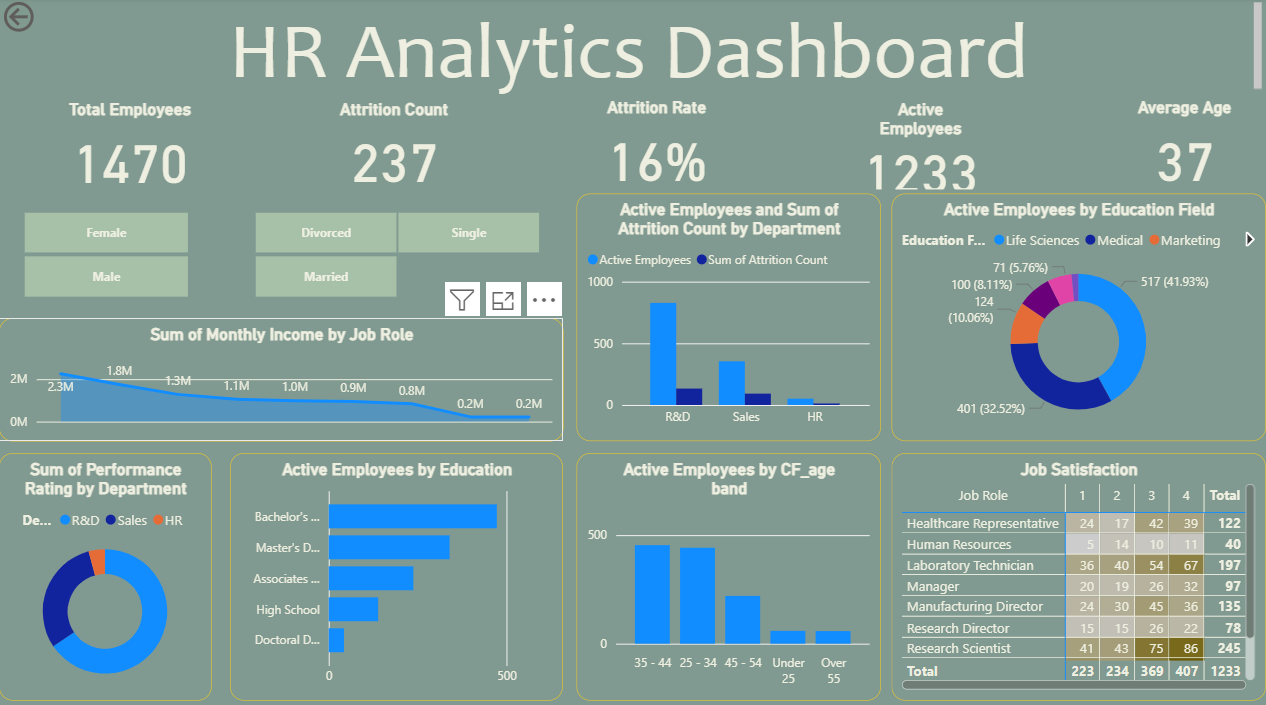

Layout of this report page (visuals, bound fields, positions):
{"tool":"powerbi","page":{"name":"Page 1","canvas":[1280,720],"ordinal":0},"visuals":[{"type":"card","title":"Total Employees","fields":{"Values":["Sum(HR data.Employee Count)"]},"box":[49.6,102.5,164.9,96.1],"z":0},{"type":"card","title":"Attrition Count","fields":{"Values":["Sum(HR data.Attrition Count)"]},"box":[315.9,102.5,164.9,94.5],"z":1000},{"type":"card","title":"Attrition Rate","fields":{"Values":["HR data.Attrition Rate"]},"box":[582.1,100.9,164.9,96.1],"z":2000},{"type":"card","title":"Active Employees","fields":{"Values":["HR data.Active Employees"]},"box":[848.3,102.5,164.9,96.1],"z":3000},{"type":"card","title":"Average Age","fields":{"Values":["Avg(HR data.Age)"]},"box":[1114.5,100.9,164.9,96.1],"z":4000},{"type":"actionButton","box":[0,0,100,40],"z":5000},{"type":"textbox","box":[0,0,1279.5,102.5],"z":6000},{"type":"clusteredColumnChart","fields":{"Y":["HR data.Active Employees","Sum(HR data.Attrition Count)"],"Category":["HR data.Department"]},"box":[582.9,198.6,307.5,249.8],"z":7000},{"type":"donutChart","fields":{"Y":["HR data.Active Employees"],"Category":["HR data.Education Field"]},"box":[901.6,198.6,377.9,249.8],"z":8000},{"type":"columnChart","fields":{"Y":["HR data.Active Employees"],"Category":["HR data.CF_age band"]},"box":[582.9,459.6,307.5,249.8],"z":9000},{"type":"pivotTable","title":"Job Satisfaction","fields":{"Rows":["HR data.Job Role"],"Columns":["HR data.Job Satisfaction"],"Values":["HR data.Active Employees"]},"box":[901.6,459.6,377.9,249.8],"z":10000},{"type":"donutChart","fields":{"Y":["Sum(HR data.Performance Rating)"],"Category":["HR data.Department"]},"box":[0,459.6,214.6,249.8],"z":11000},{"type":"clusteredBarChart","fields":{"Y":["HR data.Active Employees"],"Category":["HR data.Education"]},"box":[233.8,459.6,336.3,249.8],"z":12000},{"type":"areaChart","fields":{"Category":["HR data.Job Role"],"Y":["Sum(HR data.Monthly Income)"]},"box":[0,323.5,570.1,124.9],"z":13000},{"type":"slicer","fields":{"Values":["HR data.Gender"]},"box":[0,209.8,214.6,99.3],"z":13001},{"type":"slicer","fields":{"Values":["HR data.Marital Status"]},"box":[233.8,209.8,336.3,99.3],"z":13002}]}

Visuals, with their boxes in screenshot pixels (x1, y1, x2, y2), scaled from the page's 1280x720 canvas onto the 1266x705 screenshot:
"Total Employees" card: 49/100/212/194
"Attrition Count" card: 312/100/476/193
"Attrition Rate" card: 576/99/739/193
"Active Employees" card: 839/100/1002/194
"Average Age" card: 1102/99/1265/193
actionButton: 0/0/99/39
textbox: 0/0/1265/100
clusteredColumnChart - HR data.Active Employees x Sum(HR data.Attrition Count): 577/194/881/439
donutChart - HR data.Active Employees x HR data.Education Field: 892/194/1265/439
columnChart - HR data.Active Employees x HR data.CF_age band: 577/450/881/695
"Job Satisfaction" pivotTable: 892/450/1265/695
donutChart - Sum(HR data.Performance Rating) x HR data.Department: 0/450/212/695
clusteredBarChart - HR data.Active Employees x HR data.Education: 231/450/564/695
areaChart - HR data.Job Role x Sum(HR data.Monthly Income): 0/317/564/439
slicer - HR data.Gender: 0/205/212/303
slicer - HR data.Marital Status: 231/205/564/303
